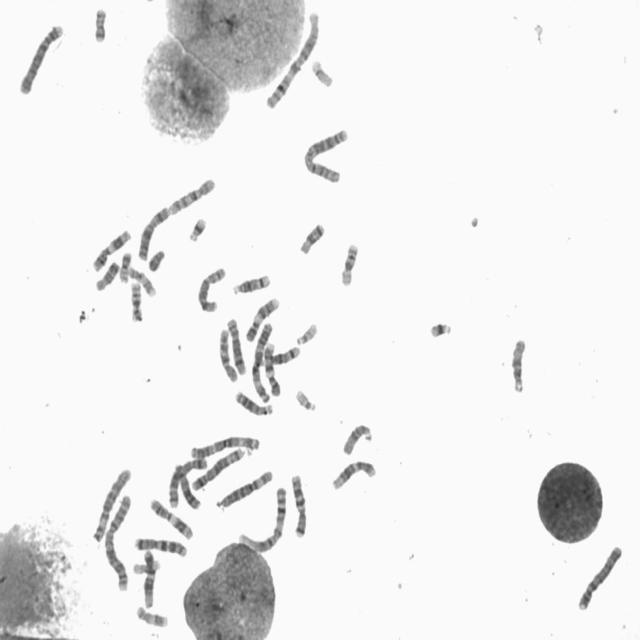A1: (262, 5, 322, 111), (235, 481, 289, 554)
A2: (102, 488, 134, 592), (301, 122, 351, 184)
A3: (248, 318, 275, 405), (187, 430, 262, 460)
B4: (15, 18, 65, 96), (575, 540, 624, 612)
B5: (188, 443, 245, 492), (166, 454, 208, 510)
C10: (166, 174, 217, 216), (215, 323, 240, 384)
C11: (146, 494, 194, 541), (89, 224, 132, 272)
C12: (329, 454, 378, 492), (140, 546, 156, 610)
C6: (89, 462, 133, 543), (213, 465, 275, 510)
C7: (288, 469, 309, 540), (131, 533, 189, 558)
C8: (194, 262, 228, 314), (223, 313, 248, 376)
C9: (242, 292, 281, 342), (261, 338, 282, 398)
D13: (174, 462, 202, 512), (232, 386, 274, 417)
D14: (229, 269, 273, 296), (262, 340, 302, 366)
D15: (339, 418, 374, 456), (508, 333, 528, 395)
E16: (337, 238, 361, 287), (128, 277, 144, 323)
E17: (125, 262, 158, 299), (133, 601, 170, 628)
E18: (296, 218, 326, 255), (92, 256, 121, 292)
F19: (308, 54, 335, 88), (130, 555, 162, 575)
F20: (91, 4, 109, 44), (116, 248, 133, 284)
G21: (186, 212, 208, 243), (426, 316, 454, 339)
G22: (293, 318, 320, 346), (292, 384, 318, 413)
X: (135, 201, 171, 262)
Y: (145, 245, 167, 272)
